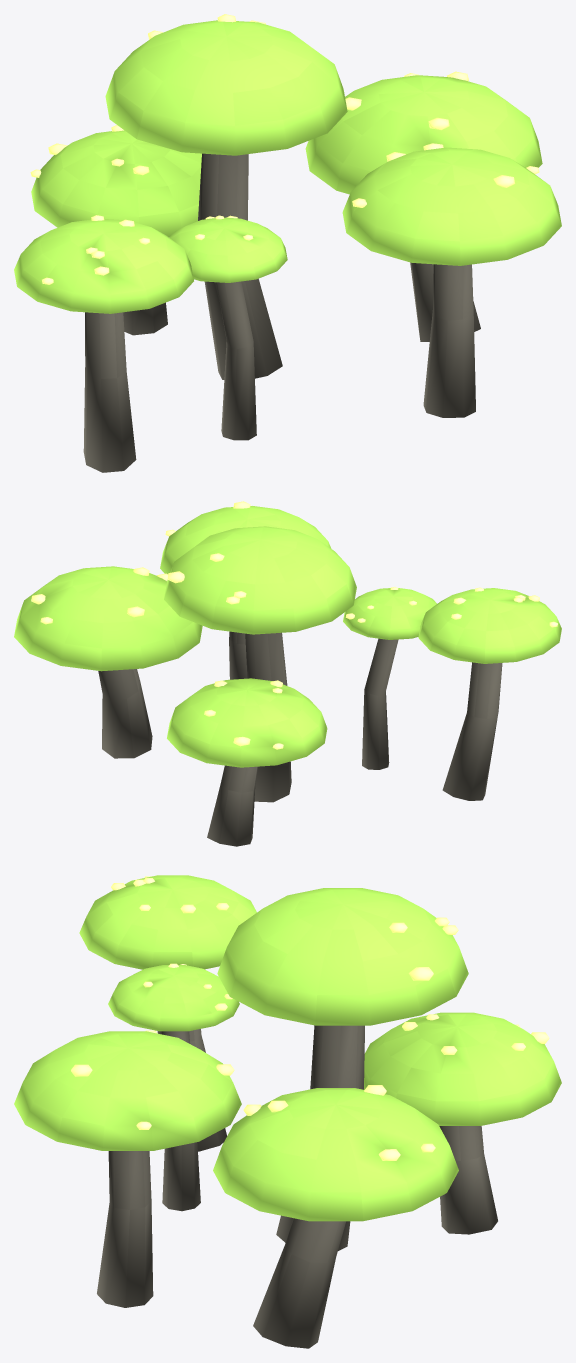
File: obj_deco_hongos.glb
3 views of the same model, one above another, from view 1: azimuth 30°, elevation 25°; view 2: azimuth 150°, elevation 25°; view 3: azimuth 270°, elevation 25° (orthographic). The views are drawn at different scales.
Parts seen in each view (by area): view 1: propforge-libre-deco_hongos; view 2: propforge-libre-deco_hongos; view 3: propforge-libre-deco_hongos.
Boxes of the visible parts, bbox=[...] form: propforge-libre-deco_hongos: bbox=[14, 14, 561, 472]; propforge-libre-deco_hongos: bbox=[14, 501, 561, 846]; propforge-libre-deco_hongos: bbox=[14, 875, 561, 1348].
Bounding box in the file's own units: 0.8055 × 0.4412 × 0.6445.
